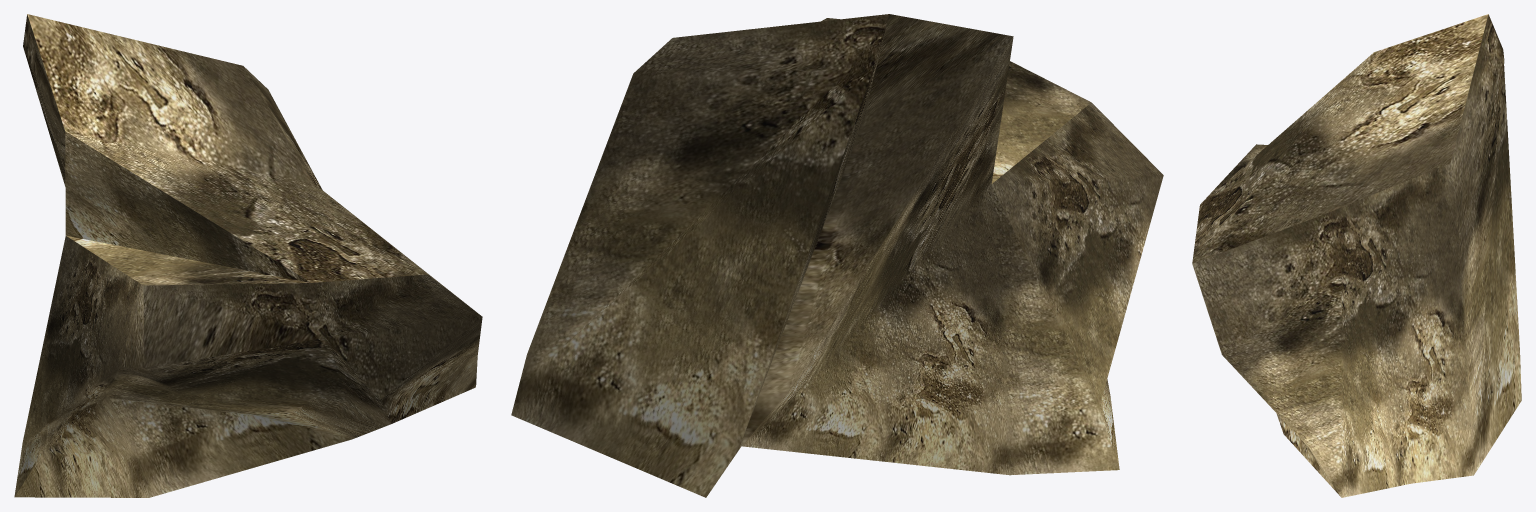
The model's file is tunnel_block_cave_lava.fbx.
The picture shows the model from 3 angles, left to right: view 1: azimuth 30°, elevation 25°; view 2: azimuth 150°, elevation 25°; view 3: azimuth 270°, elevation 25°; orthographic projection. The views are drawn at different scales.
Visible parts, largest first — view 1: LavaCaveBlock; view 2: LavaCaveBlock; view 3: LavaCaveBlock.
Part boxes in pixels (x1=…): LavaCaveBlock: x1=14, y1=14, x2=482, y2=497; LavaCaveBlock: x1=511, y1=14, x2=1163, y2=497; LavaCaveBlock: x1=1192, y1=14, x2=1521, y2=497.
Size of the model in its own units: 6252 by 5180 by 4614.
Materials: 1 (1 with a texture image).
